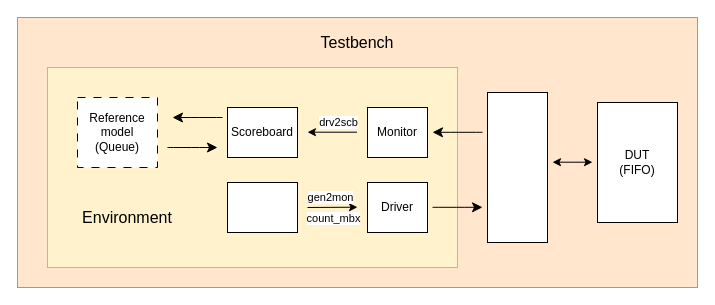
This 715x305 diagram has some shape labels left out. Here are the shapes that lost their labels. From the top down, the centre of each, then its label:
the point at 517,167: Interface
the point at 262,207: Generator
